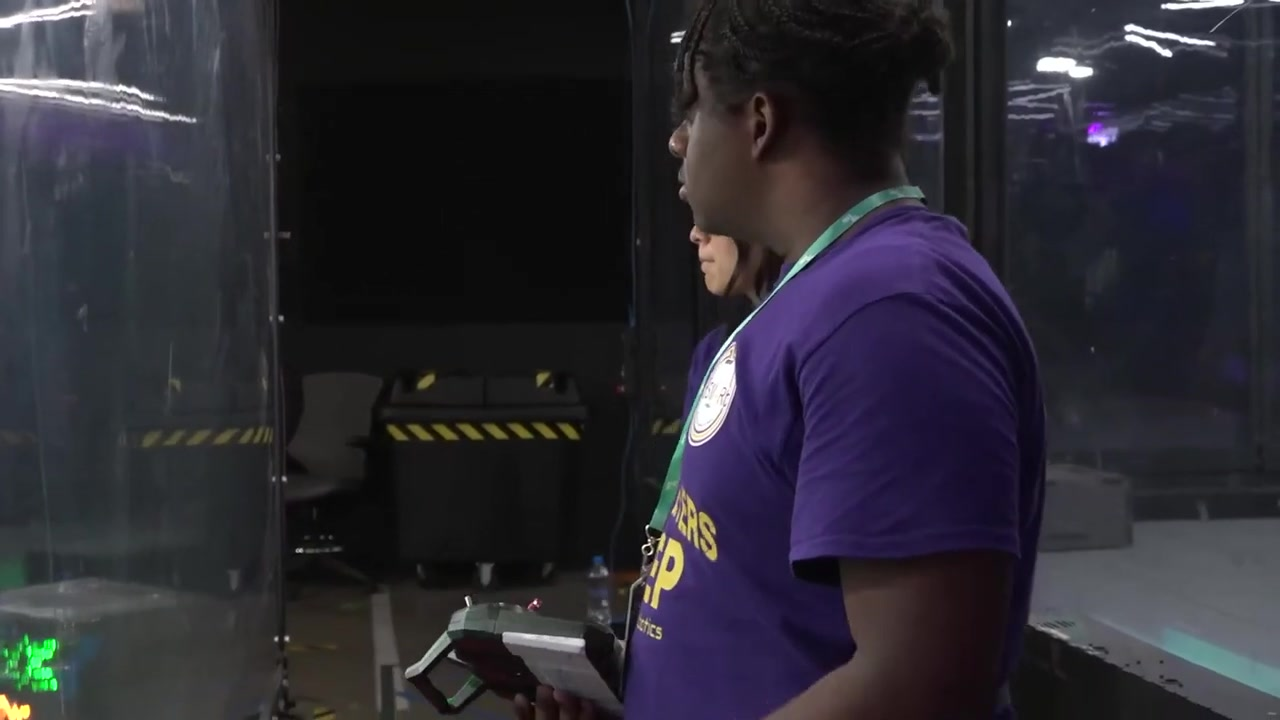housebot: (0, 577, 227, 720), (1040, 457, 1135, 555)
